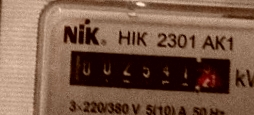0: (78, 55, 93, 76), (99, 54, 113, 76)
1: (178, 60, 190, 80)
2: (119, 56, 133, 77)
4: (159, 58, 173, 79)
5: (138, 56, 152, 79)
6: (200, 73, 212, 89)
screen: (57, 38, 242, 104)
